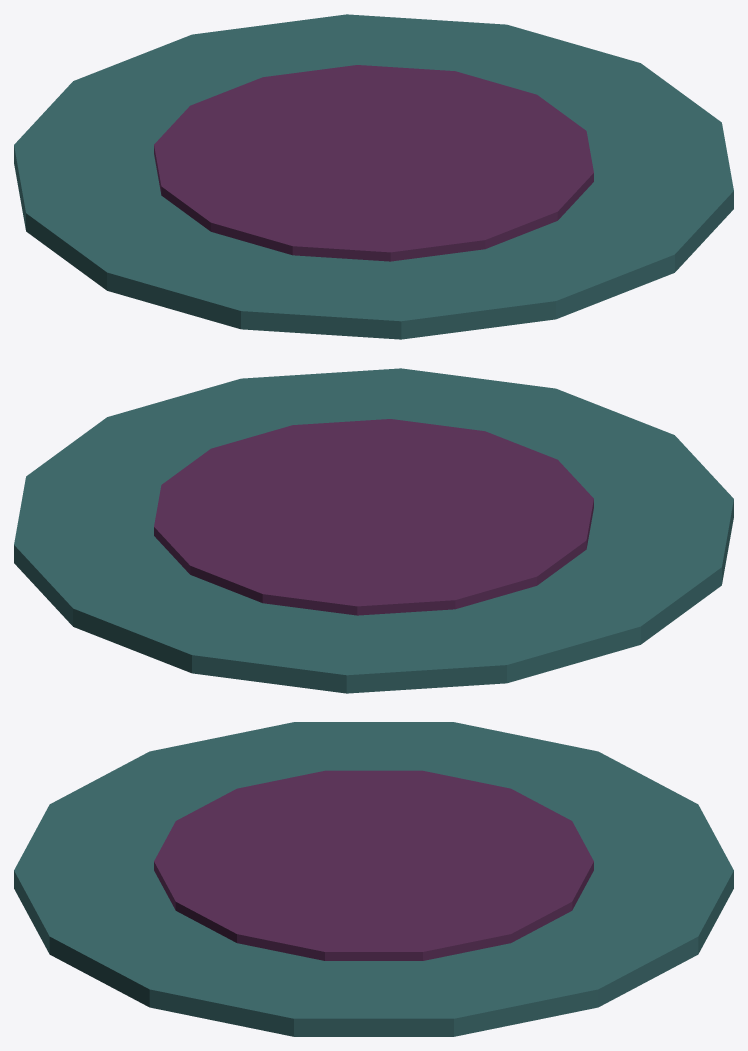
The model's file is rug-round.obj.
The picture shows the model from 3 angles, top to bottom: view 1: azimuth 30°, elevation 25°; view 2: azimuth 150°, elevation 25°; view 3: azimuth 270°, elevation 25°; orthographic projection.
Visible parts, largest first — view 1: round-woven-rug, inner-cozy-ring; view 2: round-woven-rug, inner-cozy-ring; view 3: round-woven-rug, inner-cozy-ring.
Boxes of the visible parts, left/top/right/bottom form: round-woven-rug: left=14, top=14, right=733, bottom=339; inner-cozy-ring: left=154, top=65, right=593, bottom=261; round-woven-rug: left=14, top=368, right=733, bottom=693; inner-cozy-ring: left=154, top=419, right=593, bottom=615; round-woven-rug: left=14, top=722, right=733, bottom=1036; inner-cozy-ring: left=154, top=770, right=593, bottom=960.
Size of the model in its own units: 1.75 by 0.075 by 1.8.
